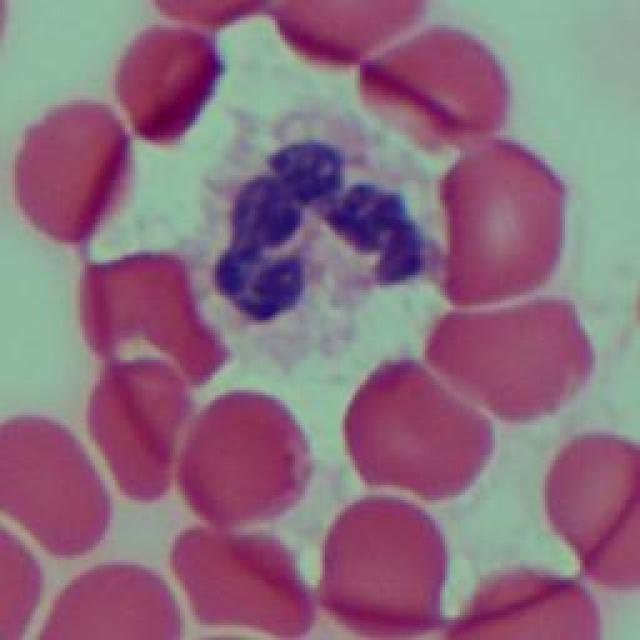RBC: (439, 138, 566, 310), (343, 361, 495, 501), (74, 254, 224, 391), (430, 296, 595, 416), (316, 496, 449, 636), (359, 25, 509, 145), (11, 101, 131, 246), (180, 393, 310, 525), (168, 525, 314, 640), (0, 411, 112, 553), (88, 356, 192, 504), (545, 430, 640, 590), (120, 25, 222, 143), (36, 562, 184, 640), (448, 567, 601, 640), (272, 0, 428, 65), (0, 520, 30, 638)
WBC: (180, 99, 442, 386)
